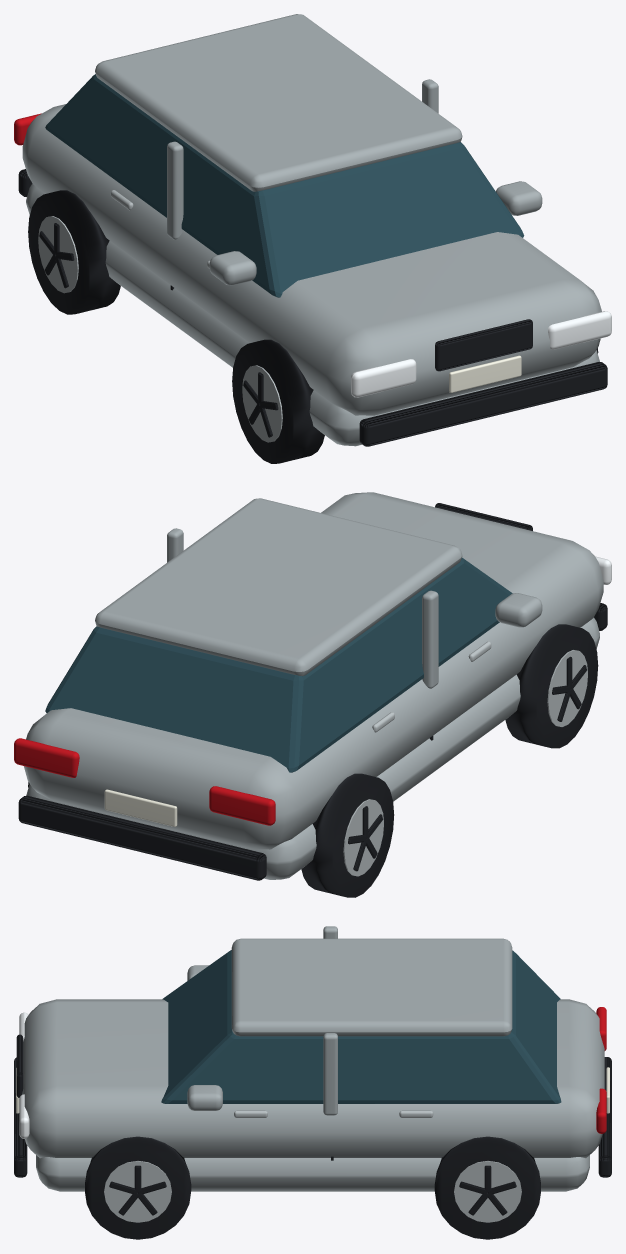
Rendered from hatchback.glb.
3 renders of one model, top to bottom at view 1: azimuth 30°, elevation 25°; view 2: azimuth 150°, elevation 25°; view 3: azimuth 270°, elevation 25°, orthographic. The views are drawn at different scales.
Parts seen in each view (by area): view 1: BodyPaint.002, Glass.002, Rubber.002, Alloy.002, Headlights.002, Road paint; view 2: BodyPaint.002, Glass.002, Rubber.002, Alloy.002, Tail lamps.002, Road paint; view 3: BodyPaint.002, Glass.002, Rubber.002, Alloy.002, Tail lamps.002, Headlights.002.
Part boxes in pixels (bbox=[...]): BodyPaint.002: bbox=[22, 14, 601, 446]; Glass.002: bbox=[45, 74, 524, 297]; Rubber.002: bbox=[18, 169, 607, 463]; Alloy.002: bbox=[38, 190, 282, 442]; Headlights.002: bbox=[351, 311, 611, 397]; Road paint: bbox=[449, 355, 521, 392]; BodyPaint.002: bbox=[24, 492, 603, 879]; Glass.002: bbox=[45, 557, 512, 772]; Rubber.002: bbox=[18, 503, 607, 897]; Alloy.002: bbox=[343, 641, 587, 876]; Tail lamps.002: bbox=[14, 738, 275, 825]; Road paint: bbox=[104, 789, 177, 826]; BodyPaint.002: bbox=[22, 926, 604, 1191]; Glass.002: bbox=[161, 950, 561, 1103]; Rubber.002: bbox=[14, 1034, 611, 1239]; Alloy.002: bbox=[104, 1110, 521, 1222]; Tail lamps.002: bbox=[596, 1007, 606, 1133]; Headlights.002: bbox=[19, 1012, 29, 1138].
Bounding box in the file's own units: 2.14 × 1.46 × 4.05.
